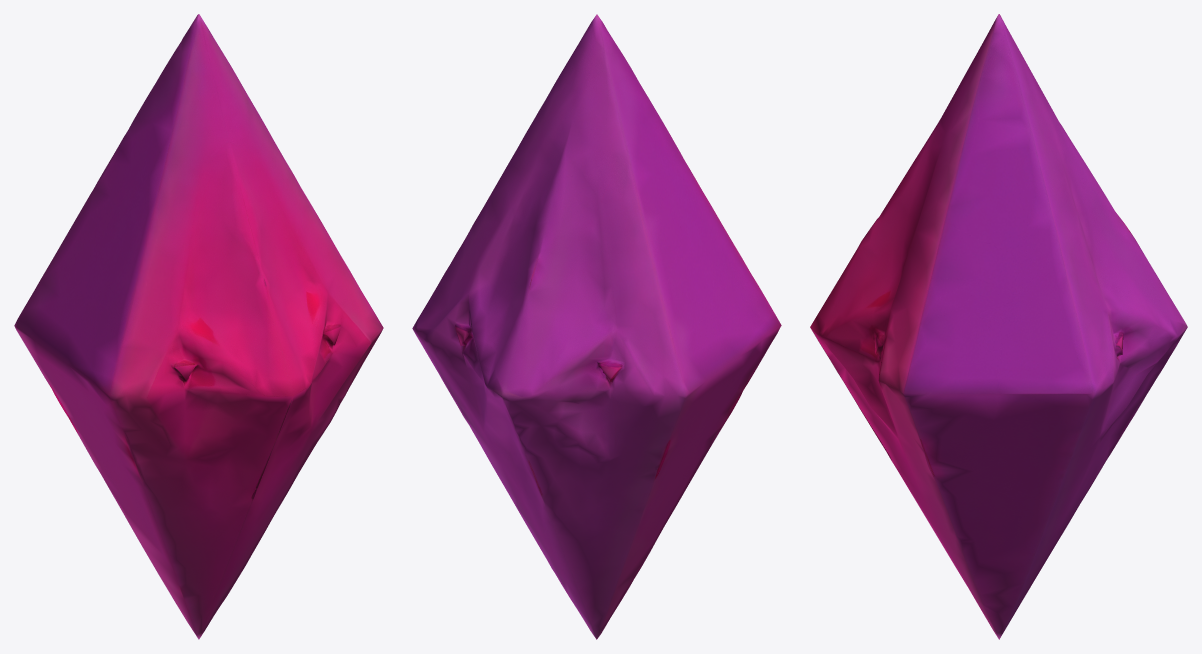
File: crystal5.glb
The picture shows the model from 3 angles, left to right: view 1: azimuth 30°, elevation 25°; view 2: azimuth 150°, elevation 25°; view 3: azimuth 270°, elevation 25°; orthographic projection.
Bounding box in the file's own units: 0.9186 × 2 × 1.09.
1 material, 1 textured.
